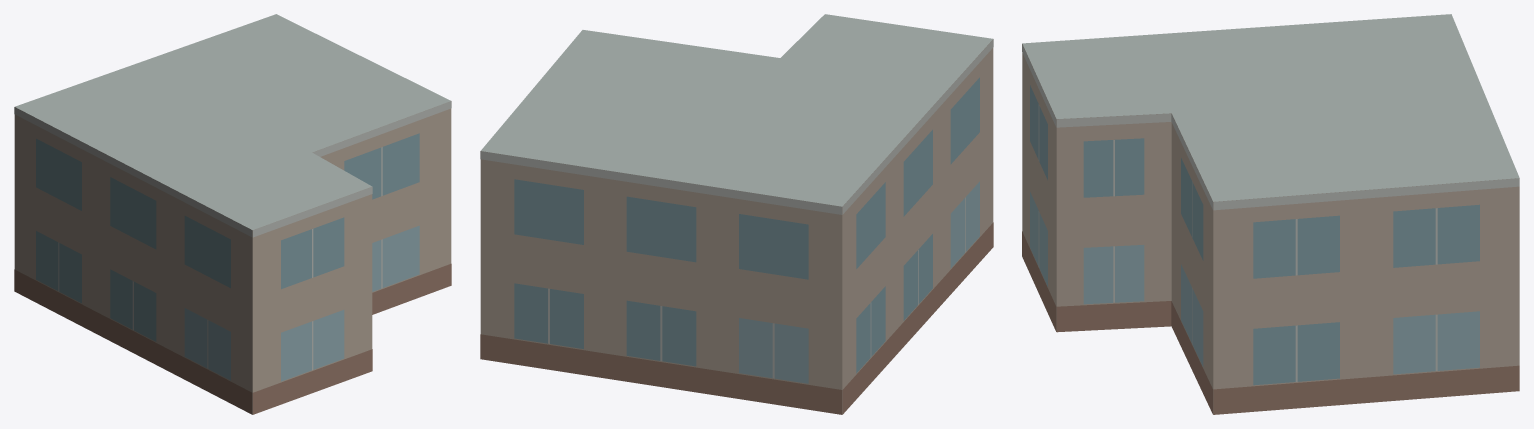
File: survey-upis-33011794.glb
3 views of the same model, side by side, from view 1: azimuth 30°, elevation 25°; view 2: azimuth 150°, elevation 25°; view 3: azimuth 270°, elevation 25° (orthographic). The views are drawn at different scales.
Parts seen in each view (by area): view 1: survey-upis-33011794.tmp; view 2: survey-upis-33011794.tmp; view 3: survey-upis-33011794.tmp.
Boxes of the visible parts, x1,y1,x2,y2 form: survey-upis-33011794.tmp: (14, 14, 451, 414); survey-upis-33011794.tmp: (480, 14, 993, 414); survey-upis-33011794.tmp: (1022, 14, 1519, 414).
Size of the model in its own units: 11.55 by 6.1 by 12.93.
